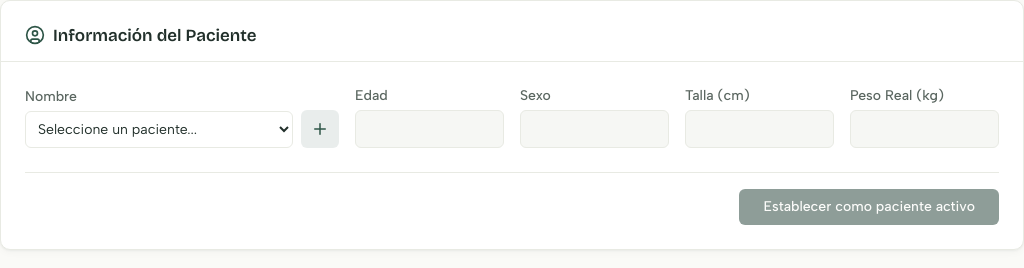
Test case: PatientInfoCard (calculos) › vista de selección de paciente › al seleccionar un paciente los campos Talla y Peso se rellenan desde su evaluación
This screenshot has width=1024, height=268.
Select "Ana García" in the dropdown showing "Seleccione un paciente" at {"x": 159, "y": 130}, box [25, 111, 293, 148]
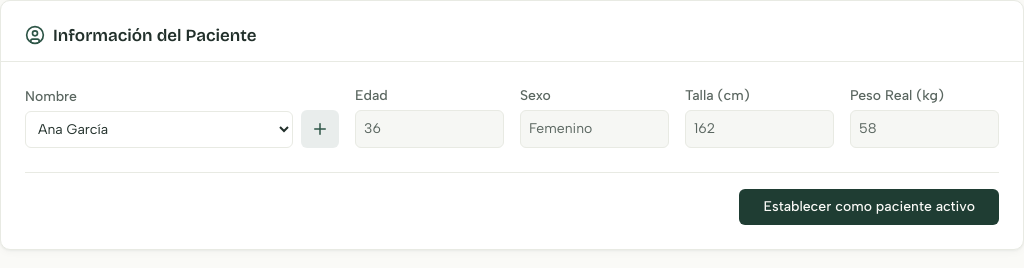
Check: the number field showing "162" below "Talla (cm)" is shown, box [685, 110, 834, 148]
Check: the number field showing "58" below "Peso Real (kg)" is shown, box [850, 110, 999, 148]
